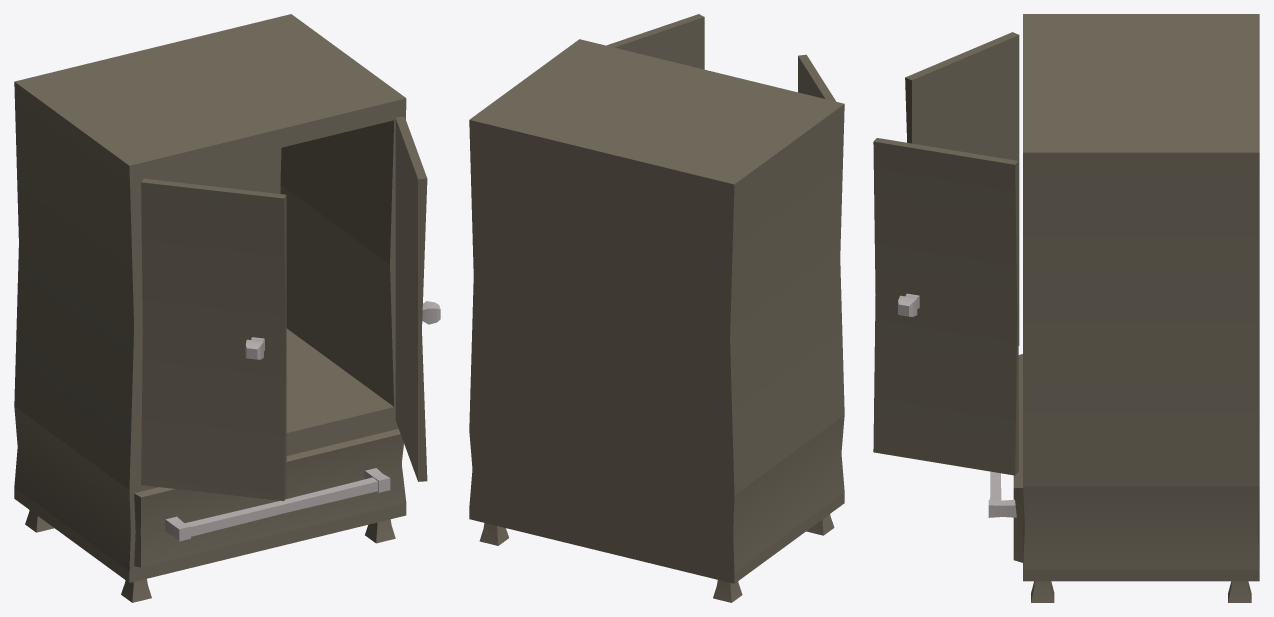
Rendered from WardrobeBasicOpen2.glb.
3 renders of one model, left to right at view 1: azimuth 30°, elevation 25°; view 2: azimuth 150°, elevation 25°; view 3: azimuth 270°, elevation 25°, orthographic. The views are drawn at different scales.
Visible parts, largest first — view 1: polySurface6, pCube34, polySurface5, pCube36, pCube40; view 2: polySurface6, pCube36, pCube34; view 3: polySurface6, pCube36, pCube34, polySurface5.
Part boxes in pixels (x1,y1,x2,y2): polySurface6: (14, 14, 406, 582); pCube34: (141, 178, 286, 500); polySurface5: (134, 429, 403, 567); pCube36: (395, 117, 427, 481); pCube40: (185, 477, 377, 536); polySurface6: (469, 39, 844, 583); pCube36: (606, 14, 704, 69); pCube34: (798, 54, 835, 101); polySurface6: (1023, 14, 1259, 581); pCube36: (873, 138, 1018, 475); pCube34: (905, 32, 1019, 345); polySurface5: (1013, 354, 1022, 562).
Size of the model in its own units: 50 by 76.17 by 58.77.
